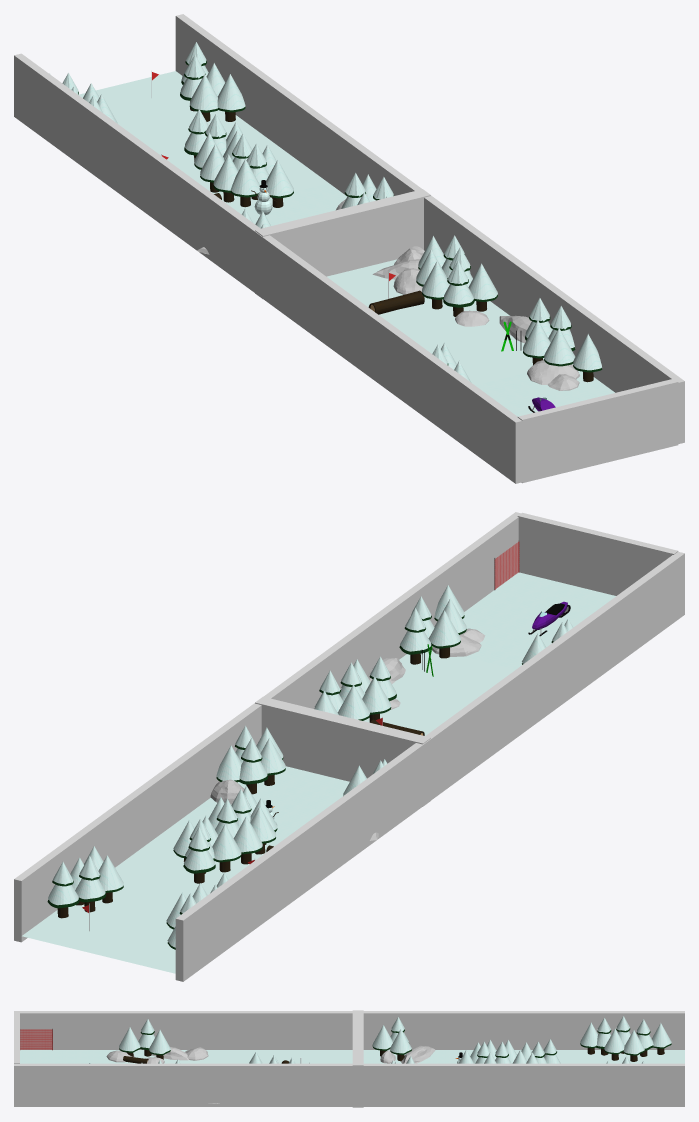
File: scenes.gltf
The picture shows the model from 3 angles, top to bottom: view 1: azimuth 30°, elevation 25°; view 2: azimuth 150°, elevation 25°; view 3: azimuth 270°, elevation 25°; orthographic projection. The views are drawn at different scales.
Parts seen in each view (by area): view 1: Cube.007, Cube.013, Cube.012, Floor.004, Cube.010, Cube.011, Floor.001, Generate.001, Pinetree2.010, Pinetree1.041, Pinetree1.054, Pinetree1.010 (+8 smaller); view 2: Cube.013, Cube.007, Floor.001, Floor.004, Cube.012, Cube.010, Cube.011, Generate.001, Pinetree2.032, Pinetree2.027, Pinetree2.016, Pinetree2.033 (+6 smaller); view 3: Cube.010, Cube.012, Cube.007, Cube.013, Floor.004, Floor.001, Fence.002, Generate.001, Pinetree2.006, Pinetree1.050, Pinetree1.049, Pinetree1.039 (+18 smaller).
Part boxes in pixels (box(x1,y1,x2,y2)): Cube.007: box(256, 233, 523, 483); Cube.013: box(14, 53, 275, 303); Cube.012: box(175, 14, 422, 195); Floor.004: box(327, 259, 614, 416); Cube.010: box(424, 195, 684, 444); Cube.011: box(517, 378, 678, 483); Floor.001: box(79, 71, 347, 225); Generate.001: box(255, 189, 430, 298); Pinetree2.010: box(443, 261, 474, 316); Pinetree1.041: box(230, 159, 260, 207); Pinetree1.054: box(217, 74, 245, 121); Pinetree1.010: box(573, 334, 602, 382); Cube.013: box(175, 729, 442, 981); Cube.007: box(425, 552, 684, 803); Floor.001: box(22, 766, 349, 973); Floor.004: box(363, 572, 615, 735); Cube.012: box(14, 689, 280, 942); Cube.010: box(273, 512, 520, 708); Cube.011: box(517, 512, 678, 595); Generate.001: box(255, 696, 430, 806); Pinetree2.032: box(47, 862, 79, 918); Pinetree2.027: box(183, 827, 215, 883); Pinetree2.016: box(399, 608, 431, 664); Pinetree2.033: box(75, 856, 105, 912); Cube.010: box(14, 1063, 360, 1106); Cube.012: box(338, 1063, 684, 1106); Cube.007: box(14, 1011, 352, 1049); Cube.013: box(338, 1011, 684, 1049); Floor.004: box(20, 1050, 352, 1063); Floor.001: box(363, 1050, 684, 1063); Fence.002: box(20, 1028, 52, 1050); Generate.001: box(352, 1010, 363, 1107); Pinetree2.006: box(138, 1019, 154, 1056); Pinetree1.050: box(623, 1030, 644, 1061); Pinetree1.049: box(604, 1028, 624, 1060); Pinetree1.039: box(390, 1029, 411, 1061).
Bounding box in the file's own units: 22.57 × 7.78 × 112.
